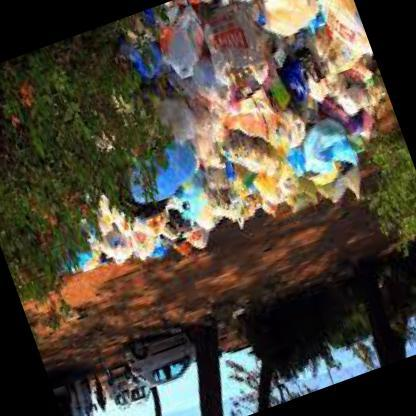Garbage: (139, 0, 375, 158), (137, 48, 299, 246), (212, 14, 362, 222), (281, 0, 399, 145), (70, 172, 214, 270)
